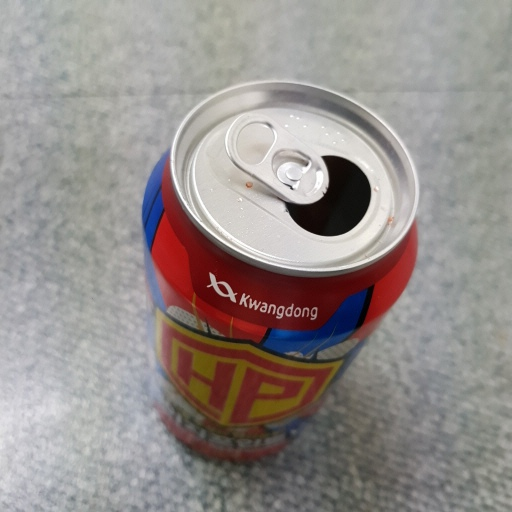Metal_0: (136, 81, 421, 466)
